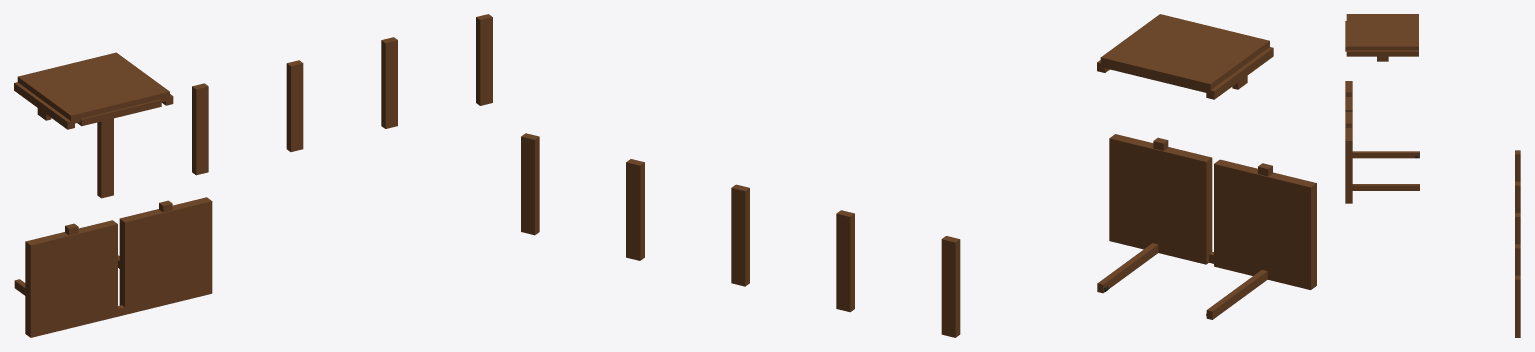
File: chair.obj
3 renders of one model, left to right at view 1: azimuth 30°, elevation 25°; view 2: azimuth 150°, elevation 25°; view 3: azimuth 270°, elevation 25°, orthographic. The views are drawn at different scales.
Parts seen in each view (by area): view 1: leg.back_1, leg.back_2, seat.panel, back.slat_3, back.slat_2, back.slat_4, back.slat_5, back.slat_1, leg.front_1, leg.front_2, back.top_rail, seat.rail.cross_1; view 2: leg.back_1, leg.back_2, seat.panel, back.slat_1, back.slat_3, back.slat_2, back.slat_5, back.slat_4, stretcher.side_1, stretcher.side_2, leg.front_2, seat.rail.cross_1 (+1 smaller); view 3: seat.panel, leg.back_2, stretcher.side_1, stretcher.side_2, seat.rail.cross_2, back.slat_5, leg.back_1, back.slat_1, back.slat_2, back.slat_3, back.slat_4, seat.rail.side_2.
Part boxes in pixels (box(x1,y1,x2,y2)): leg.back_1: box(25, 220, 117, 337); leg.back_2: box(119, 197, 212, 314); seat.panel: box(17, 52, 169, 123); back.slat_3: box(286, 60, 303, 151); back.slat_2: box(192, 83, 208, 175); back.slat_4: box(381, 37, 397, 128); back.slat_5: box(476, 14, 492, 105); back.slat_1: box(97, 118, 113, 198); leg.front_1: box(69, 233, 79, 328); leg.front_2: box(163, 210, 173, 305); back.top_rail: box(77, 99, 161, 126); seat.rail.cross_1: box(16, 83, 68, 127); leg.back_1: box(1214, 159, 1316, 289); leg.back_2: box(1109, 134, 1212, 264); seat.panel: box(1100, 14, 1269, 92); back.slat_1: box(941, 236, 960, 337); back.slat_3: box(731, 184, 749, 286); back.slat_2: box(836, 210, 854, 312); back.slat_5: box(521, 133, 539, 235); back.slat_4: box(626, 159, 644, 260); stretcher.side_1: box(1206, 270, 1267, 319); stretcher.side_2: box(1097, 243, 1158, 293); leg.front_2: box(1154, 147, 1168, 253); seat.rail.cross_1: box(1213, 48, 1271, 96); seat.panel: box(1346, 14, 1418, 50); leg.back_2: box(1345, 112, 1352, 203); stretcher.side_1: box(1352, 151, 1419, 158); stretcher.side_2: box(1352, 184, 1419, 190); seat.rail.cross_2: box(1349, 50, 1416, 56); back.slat_5: box(1515, 275, 1520, 337); leg.back_1: box(1345, 81, 1352, 111); back.slat_1: box(1515, 150, 1520, 181); back.slat_2: box(1515, 181, 1520, 212); back.slat_3: box(1515, 213, 1520, 244); back.slat_4: box(1515, 244, 1520, 275); seat.rail.side_2: box(1346, 50, 1418, 56).
Size of the model in its own units: 2.79 by 0.96 by 1.07.
